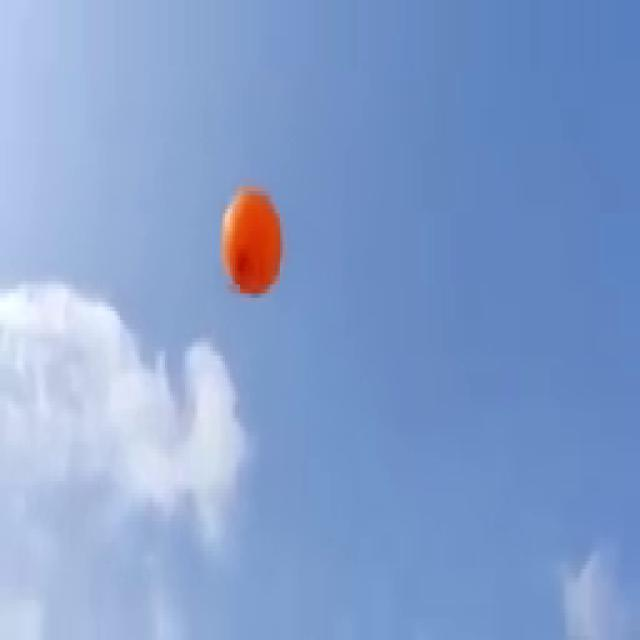red: (219, 184, 282, 296)
